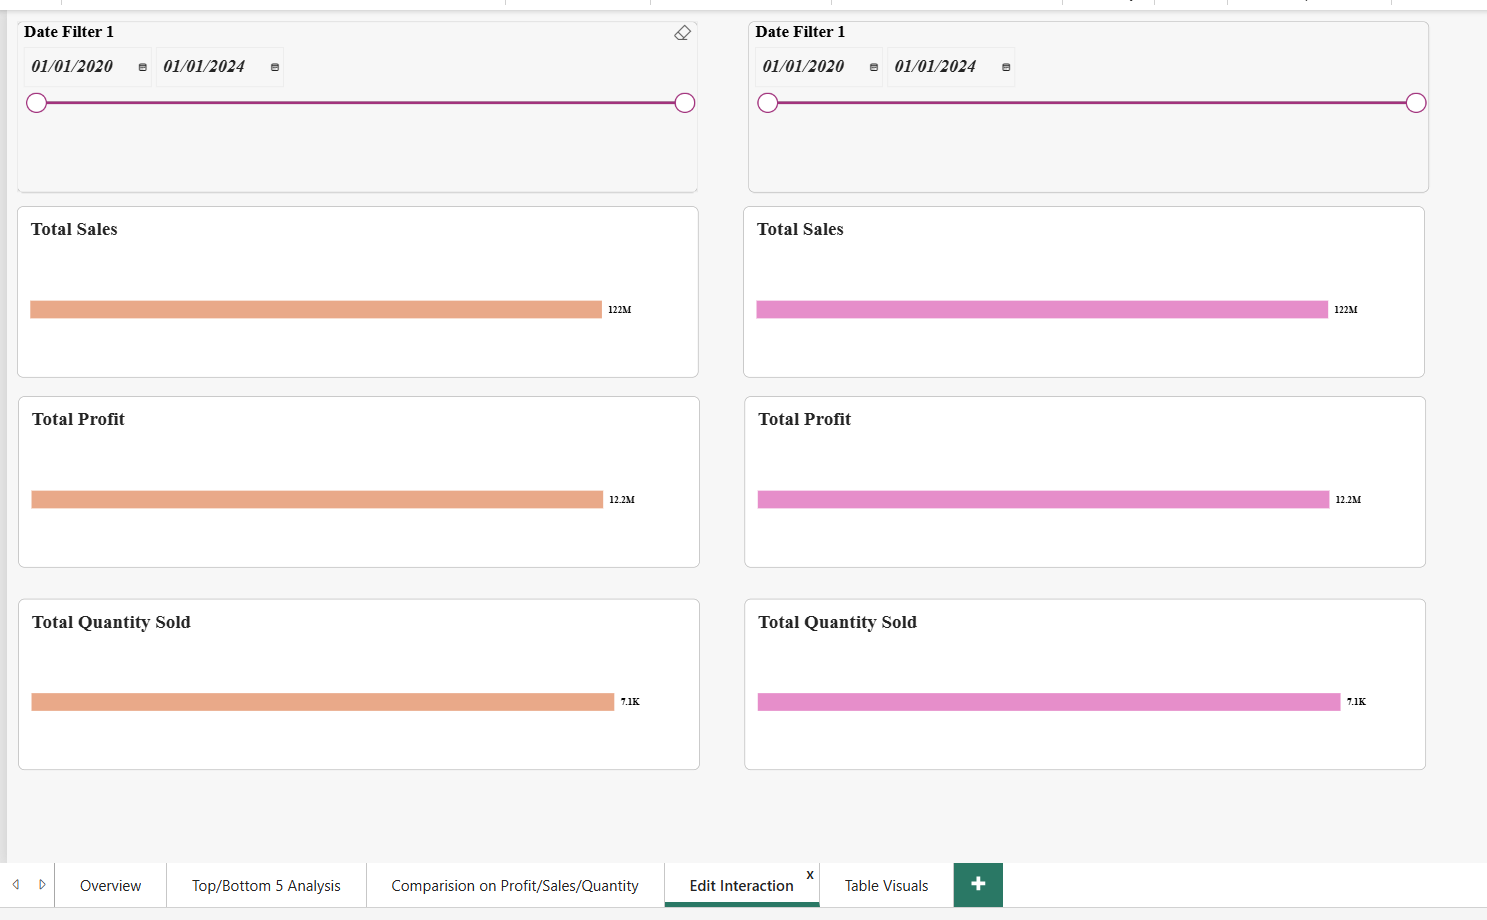

Layout of this report page (visuals, bound fields, positions):
{"tool":"powerbi","page":{"name":"Edit Interaction","canvas":[1920,1080],"ordinal":3},"visuals":[{"type":"slicer","fields":{"Values":["Fact Table.Date (dd/mm/yyyy)"]},"box":[13.3,15,861.7,216.7],"z":0},{"type":"slicer","fields":{"Values":["Fact Table.Date (dd/mm/yyyy)"]},"box":[938.3,15,861.7,216.7],"z":1000},{"type":"barChart","title":"Total Sales ","fields":{"Y":["Sum(Fact Table.Net Sales )"]},"box":[13.3,248.3,862,217],"z":2000},{"type":"barChart","title":"Total Profit","fields":{"Y":["Sum(Fact Table.Profit)"]},"box":[15,488.3,862,217],"z":3000},{"type":"barChart","title":"Total Quantity Sold","fields":{"Y":["Sum(Fact Table.Units Sold)"]},"box":[15,745,862,217],"z":4000},{"type":"barChart","title":"Total Sales ","fields":{"Y":["Sum(Fact Table.Net Sales )"]},"box":[931.3,249,862,217],"z":5000},{"type":"barChart","title":"Total Profit","fields":{"Y":["Sum(Fact Table.Profit)"]},"box":[933,489,862,217],"z":6000},{"type":"barChart","title":"Total Quantity Sold","fields":{"Y":["Sum(Fact Table.Units Sold)"]},"box":[933,745.7,862,217],"z":7000}]}

Visuals, with their boxes on the page's 1920x1080 design canvas (x1, y1, x2, y2). These are canvas units, not pixel positions in the 1487x920 screenshot, which may show the page scaled, cropped or inside an application window:
slicer - Fact Table.Date (dd/mm/yyyy): crop(13, 15, 875, 232)
slicer - Fact Table.Date (dd/mm/yyyy): crop(938, 15, 1800, 232)
"Total Sales " barChart: crop(13, 248, 875, 465)
"Total Profit" barChart: crop(15, 488, 877, 705)
"Total Quantity Sold" barChart: crop(15, 745, 877, 962)
"Total Sales " barChart: crop(931, 249, 1793, 466)
"Total Profit" barChart: crop(933, 489, 1795, 706)
"Total Quantity Sold" barChart: crop(933, 746, 1795, 963)
